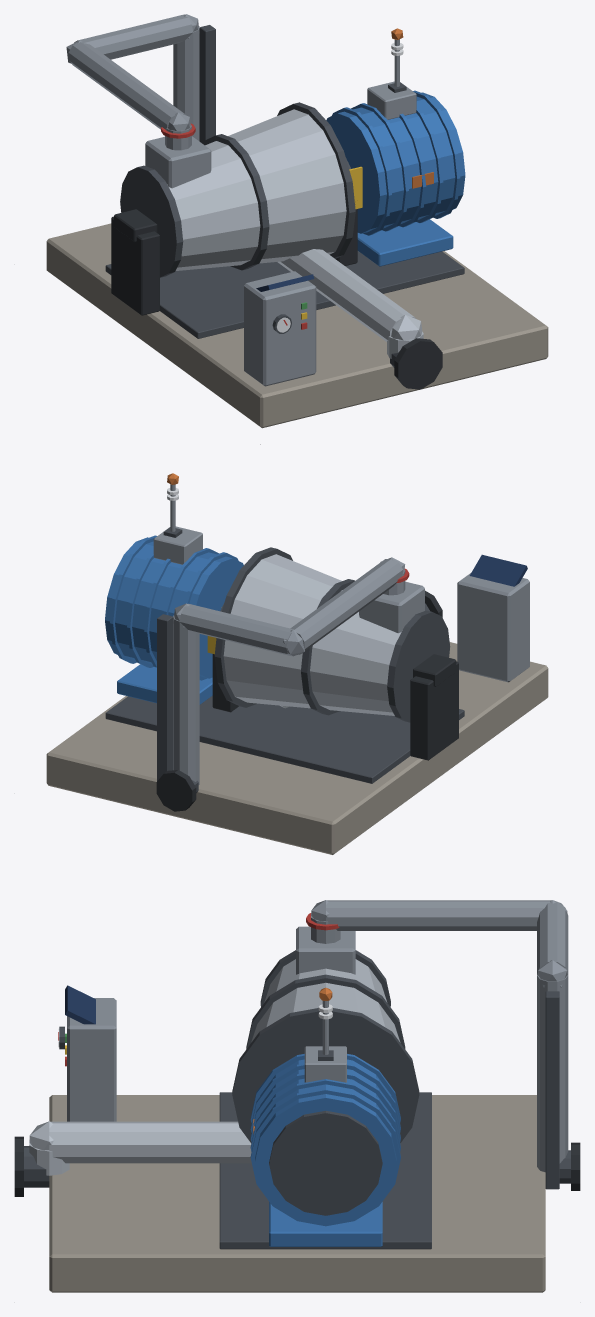
File: turbine_vapeur.glb
The picture shows the model from 3 angles, top to bottom: view 1: azimuth 30°, elevation 25°; view 2: azimuth 150°, elevation 25°; view 3: azimuth 270°, elevation 25°; orthographic projection. The views are drawn at different scales.
Visible parts, largest first — view 1: pieces_beton.006, pieces_acier.018, corps.004, pieces_acier_sombre.016, alternateur.004, pieces_fonte.012, pieces_bleu.006, pieces_gris_clair.006; view 2: pieces_beton.006, pieces_acier_sombre.016, pieces_acier.018, corps.004, alternateur.004, pieces_fonte.012, pieces_bleu.006, pieces_panneau.004; view 3: pieces_beton.006, pieces_acier_sombre.016, pieces_acier.018, pieces_gris_clair.006, pieces_bleu.006, alternateur.004, corps.004, pieces_fonte.012, pieces_panneau.004.
Part boxes in pixels (box(x1,y1,x2,y2)): pieces_beton.006: box(46, 223, 548, 428); pieces_acier.018: box(66, 14, 416, 386); corps.004: box(167, 109, 346, 270); pieces_acier_sombre.016: box(105, 25, 464, 367); alternateur.004: box(326, 92, 465, 233); pieces_fonte.012: box(111, 204, 442, 389); pieces_bleu.006: box(332, 90, 460, 266); pieces_gris_clair.006: box(277, 249, 423, 358); pieces_beton.006: box(46, 642, 548, 854); pieces_acier_sombre.016: box(105, 527, 464, 792); pieces_acier.018: box(153, 484, 529, 784); corps.004: box(223, 554, 402, 715); alternateur.004: box(105, 537, 243, 678); pieces_fonte.012: box(156, 590, 458, 811); pieces_bleu.006: box(110, 535, 238, 704); pieces_panneau.004: box(469, 554, 527, 586); pieces_beton.006: box(49, 1095, 545, 1292); pieces_acier_sombre.016: box(24, 950, 570, 1249); pieces_acier.018: box(67, 900, 568, 1172); pieces_gris_clair.006: box(29, 1121, 251, 1175); pieces_bleu.006: box(250, 1054, 400, 1246); alternateur.004: box(255, 1059, 396, 1226); corps.004: box(251, 959, 400, 1042); pieces_fonte.012: box(14, 1136, 580, 1196); pieces_panneau.004: box(65, 985, 95, 1024).
Size of the model in its own units: 1.5 by 1.12 by 2.
